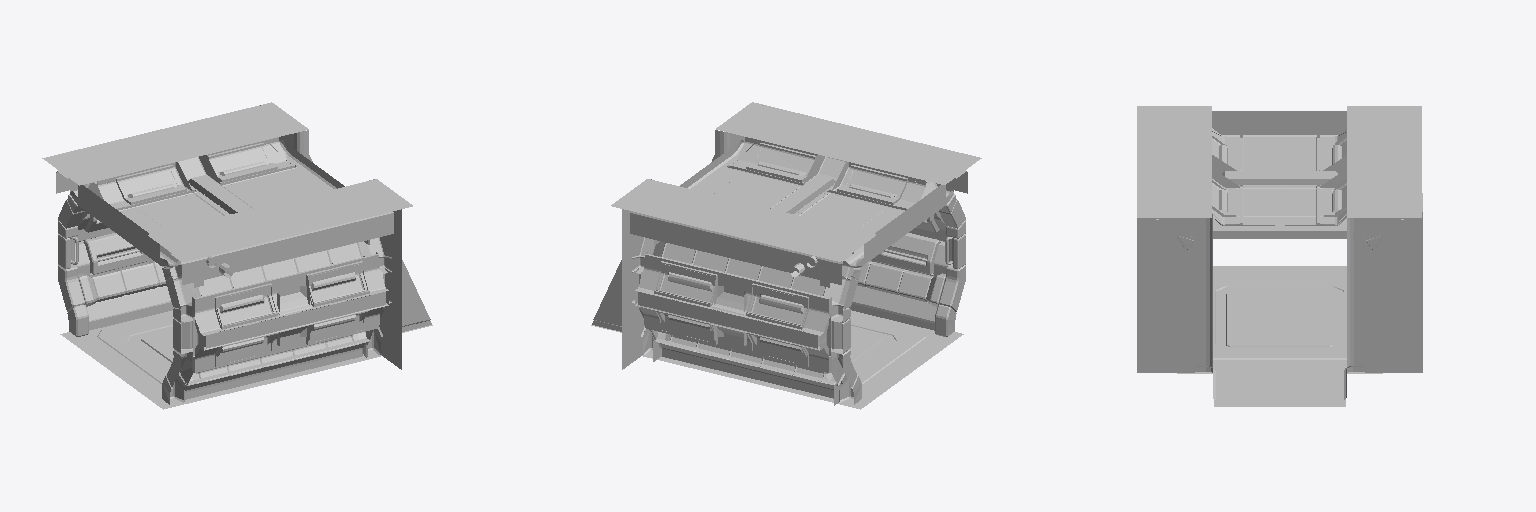
Rendered from back.obj.
3 views of the same model, side by side, from view 1: azimuth 30°, elevation 25°; view 2: azimuth 150°, elevation 25°; view 3: azimuth 270°, elevation 25° (orthographic).
Visible parts, largest first — view 1: entry_6022_pkOBJ_entry_6022_pkOBJ.001, entry_6016_pkOBJ_entry_6016_pkOBJ.001, entry_6014_pkOBJ_entry_6014_pkOBJ.001, entry_6018_pkOBJ_entry_6018_pkOBJ.001; view 2: entry_6022_pkOBJ_entry_6022_pkOBJ.001, entry_6016_pkOBJ_entry_6016_pkOBJ.001, entry_6014_pkOBJ_entry_6014_pkOBJ.001, entry_6018_pkOBJ_entry_6018_pkOBJ.001; view 3: entry_6022_pkOBJ_entry_6022_pkOBJ.001, entry_6014_pkOBJ_entry_6014_pkOBJ.001.
Boxes of the visible parts, box(x1,y1,x2,y2) form: entry_6022_pkOBJ_entry_6022_pkOBJ.001: box(42, 102, 432, 409); entry_6016_pkOBJ_entry_6016_pkOBJ.001: box(58, 194, 391, 385); entry_6014_pkOBJ_entry_6014_pkOBJ.001: box(70, 143, 355, 383); entry_6018_pkOBJ_entry_6018_pkOBJ.001: box(58, 264, 391, 404); entry_6022_pkOBJ_entry_6022_pkOBJ.001: box(591, 102, 981, 409); entry_6016_pkOBJ_entry_6016_pkOBJ.001: box(632, 194, 965, 385); entry_6014_pkOBJ_entry_6014_pkOBJ.001: box(668, 143, 953, 383); entry_6018_pkOBJ_entry_6018_pkOBJ.001: box(632, 264, 965, 404); entry_6022_pkOBJ_entry_6022_pkOBJ.001: box(1137, 106, 1422, 406); entry_6014_pkOBJ_entry_6014_pkOBJ.001: box(1212, 131, 1346, 359).
Size of the model in its own units: 70.29 by 37.5 by 60.26.